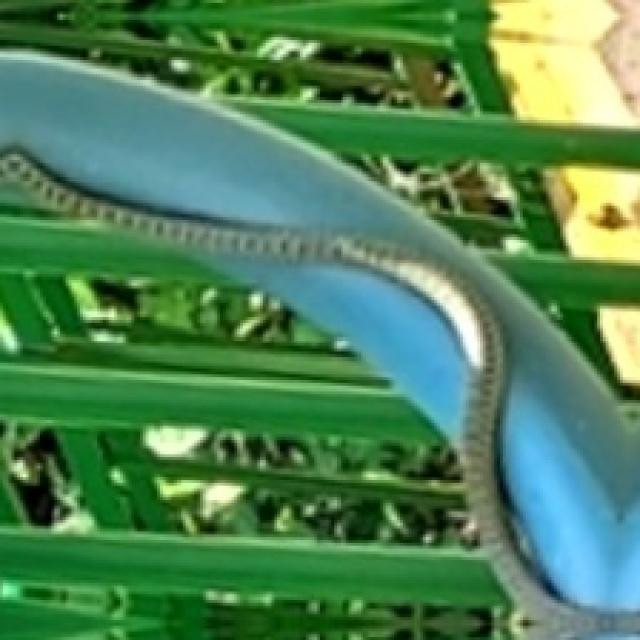paradise tree snake: (0, 51, 637, 637)
